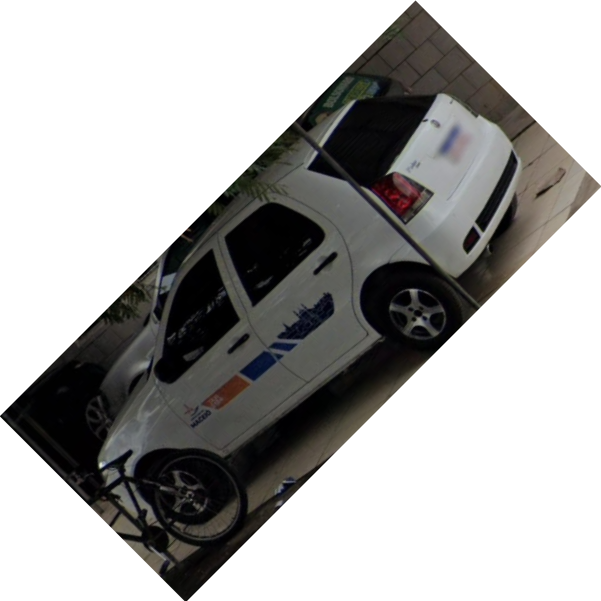car: (96, 92, 524, 514)
